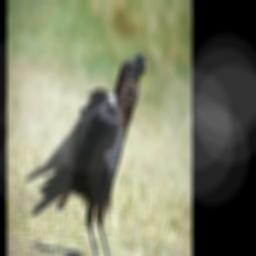Crow: (25, 53, 149, 256)
